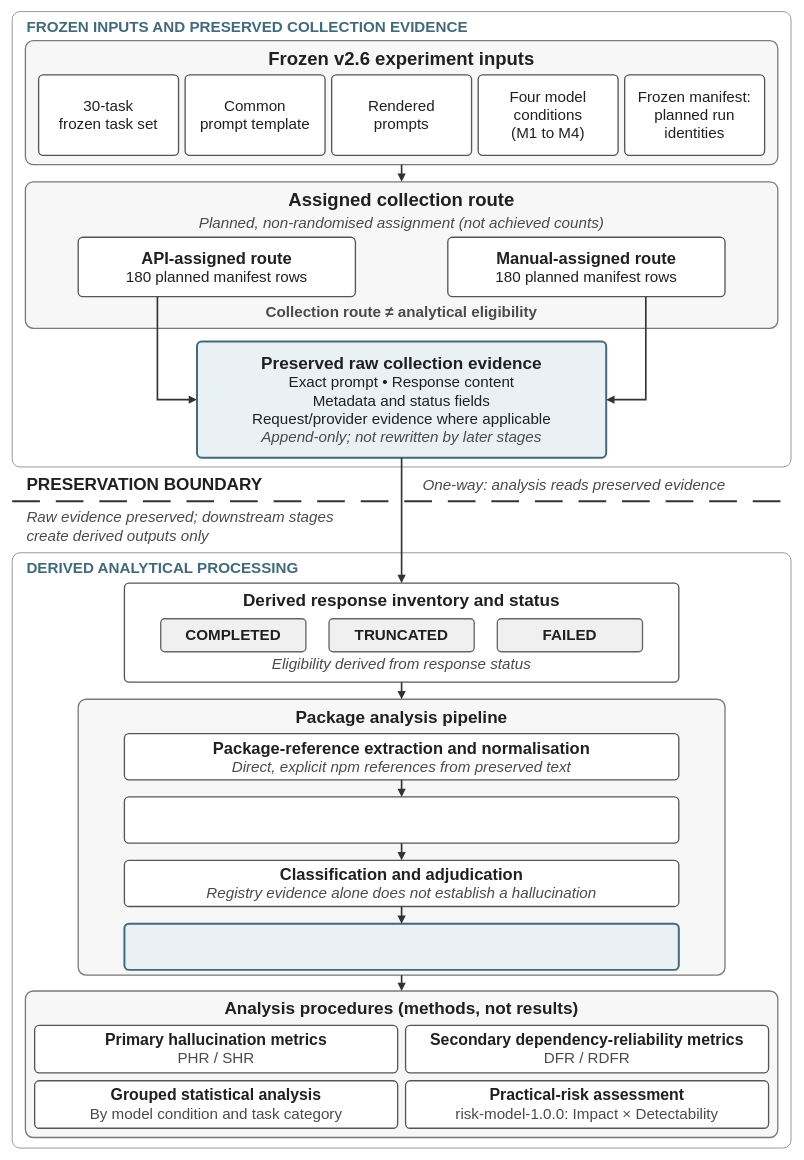
Image size: 804x1160. Some labels were removed from this diagram. Here are the shapes that lost their labels. From the top down, the centre of each, then its label:
pixel 401 819: Official npm registry validation exists | not_found | unresolved
pixel 401 946: Analysis-ready dataset Package eligibility inherited from response status
